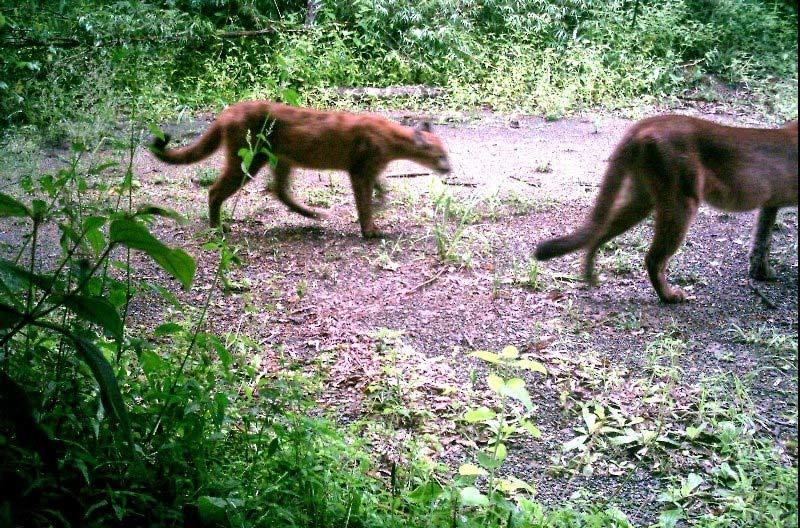OncaParda: (528, 103, 800, 310), (149, 99, 455, 256)
